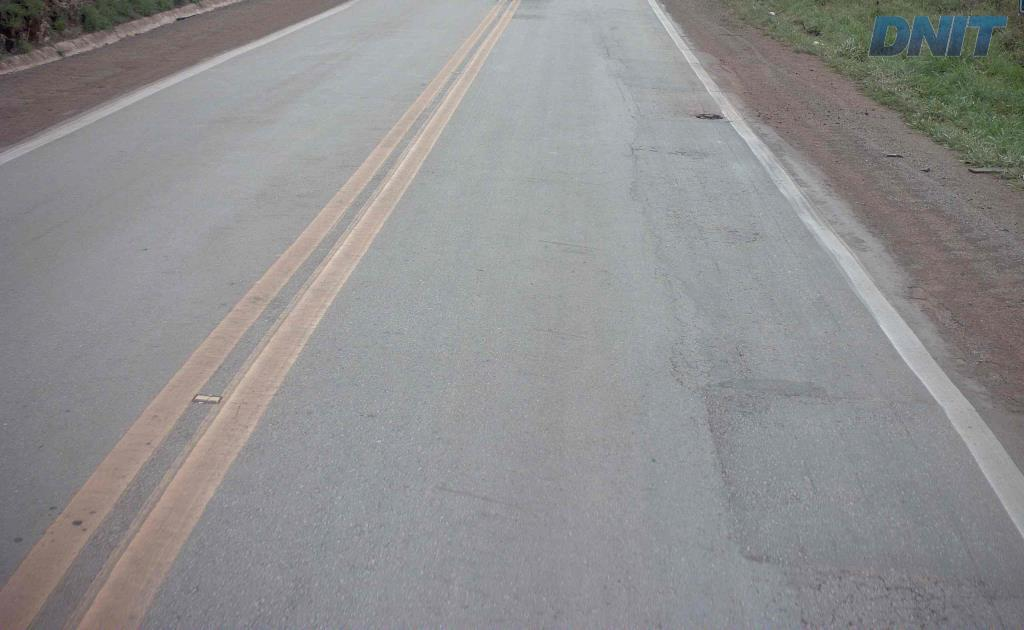pothole: (693, 112, 723, 121)
